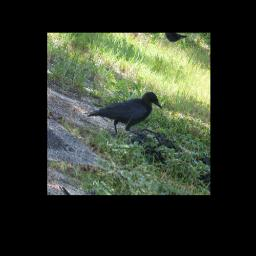Crow: (80, 68, 166, 152)
